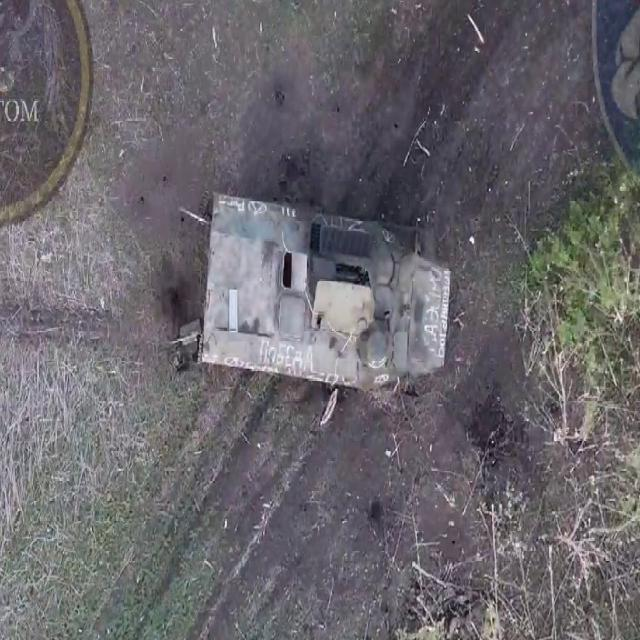APC-IFV: (175, 189, 452, 398)
